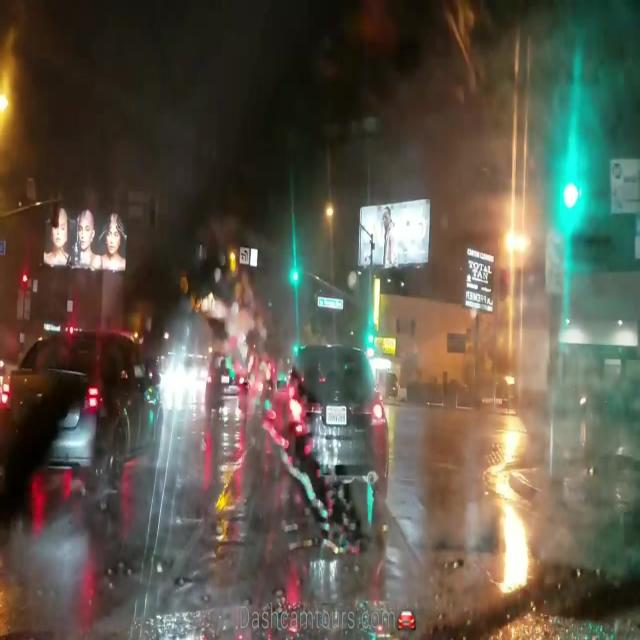Car: (7, 329, 158, 486), (278, 341, 389, 505), (206, 345, 249, 410)
